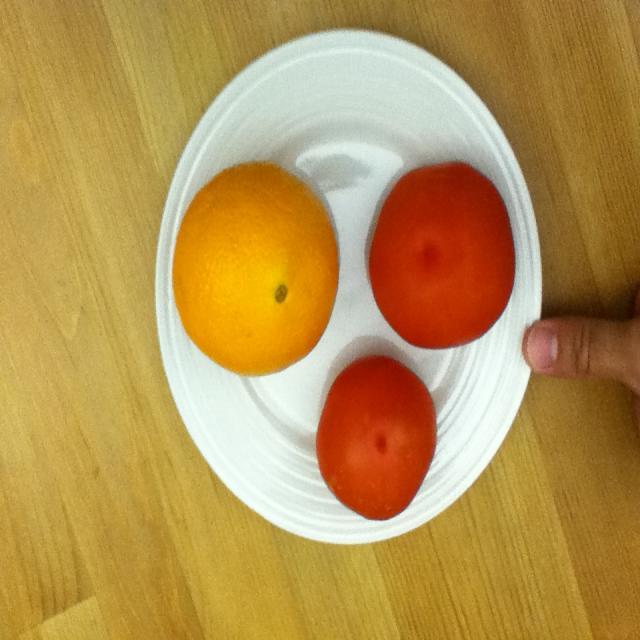orange: (159, 128, 335, 358)
tomato: (364, 151, 514, 343), (317, 362, 436, 514)
